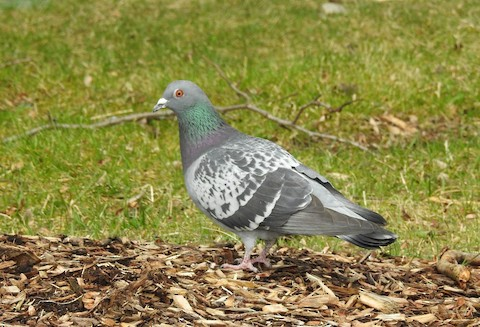pigeon: (151, 78, 403, 274)
